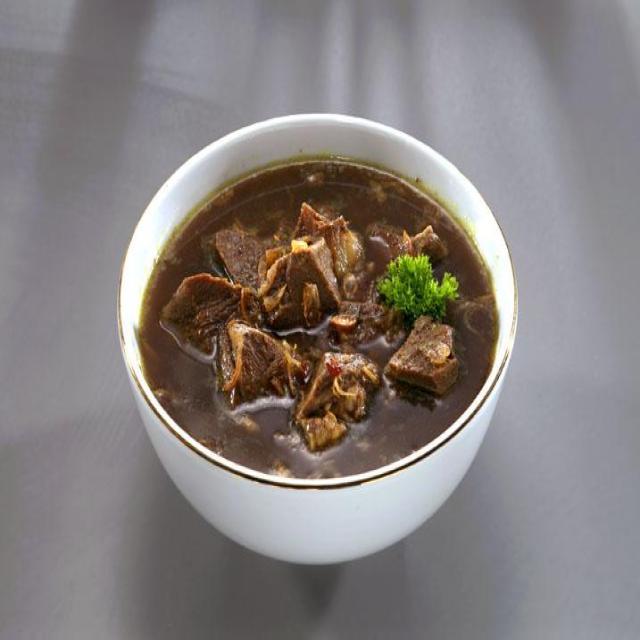Rawon: (163, 166, 494, 488)
